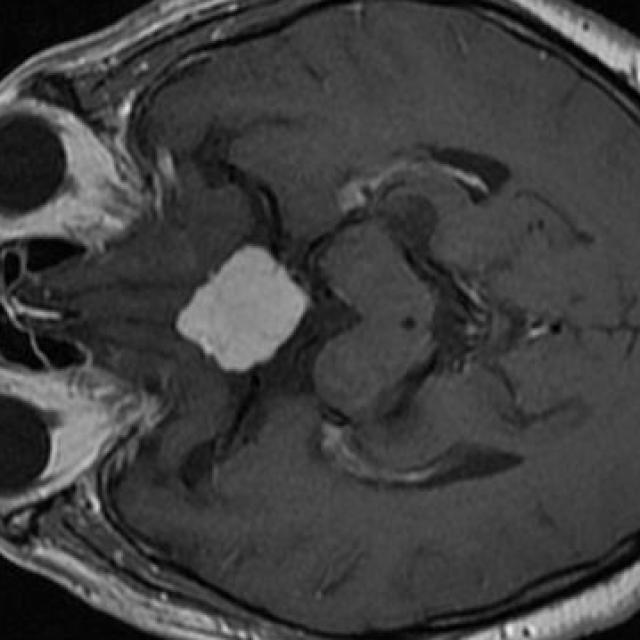meningioma: (175, 246, 310, 376)
